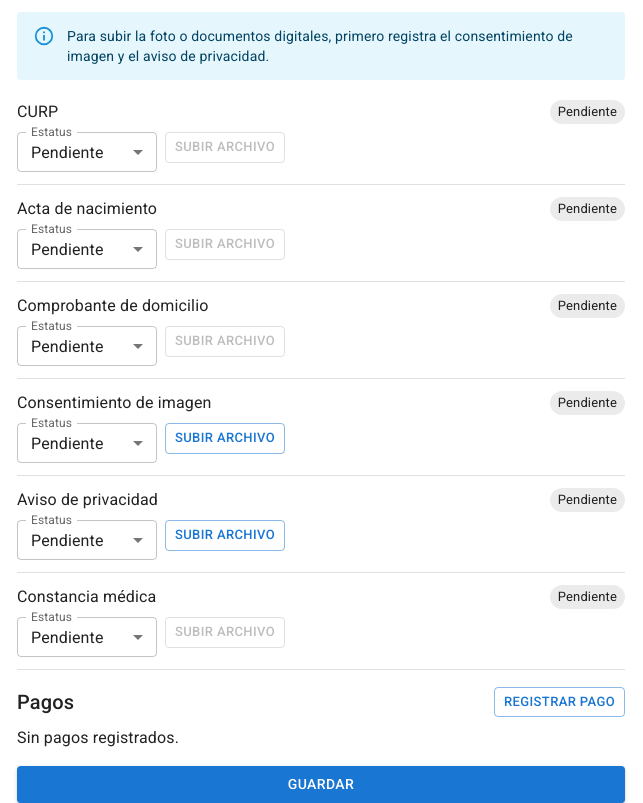
Test: editing shows an in-app success confirmation
(page scrolled)
Click the button "Guardar": (321,784) [17,766,625,802]
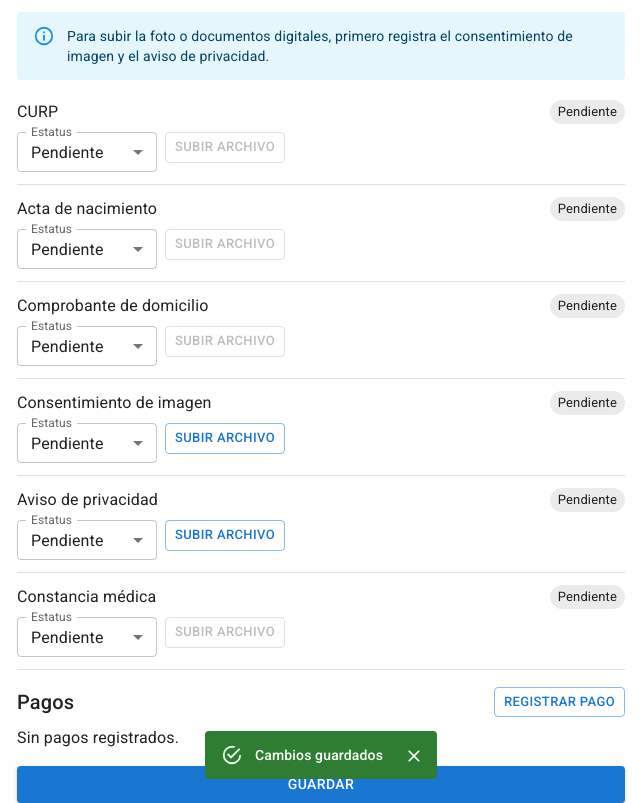
Check: the text "Cambios guardados" is shown, box [255,747,383,763]
